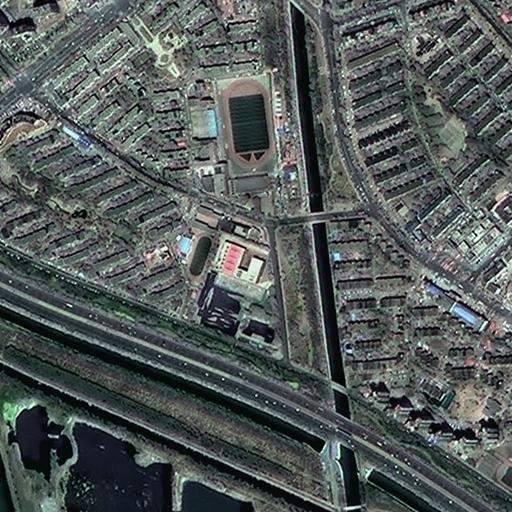school: (191, 71, 281, 211), (174, 203, 227, 288)
